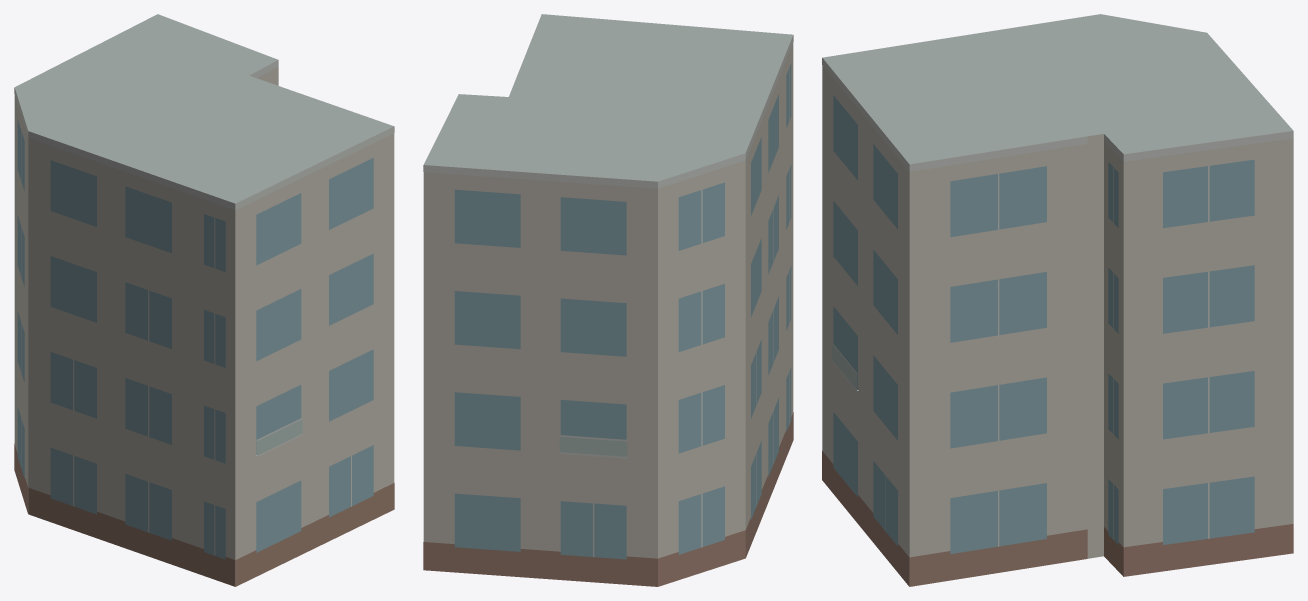
The model's file is survey-upis-32953061.glb.
3 renders of one model, left to right at view 1: azimuth 30°, elevation 25°; view 2: azimuth 150°, elevation 25°; view 3: azimuth 270°, elevation 25°, orthographic. The views are drawn at different scales.
Parts seen in each view (by area): view 1: survey-upis-32953061.tmp; view 2: survey-upis-32953061.tmp; view 3: survey-upis-32953061.tmp.
Part boxes in pixels (x1,y1,x2,y2): survey-upis-32953061.tmp: (14, 14, 394, 586); survey-upis-32953061.tmp: (423, 14, 793, 586); survey-upis-32953061.tmp: (822, 14, 1293, 586).
Size of the model in its own units: 10.62 by 13.9 by 14.07.
